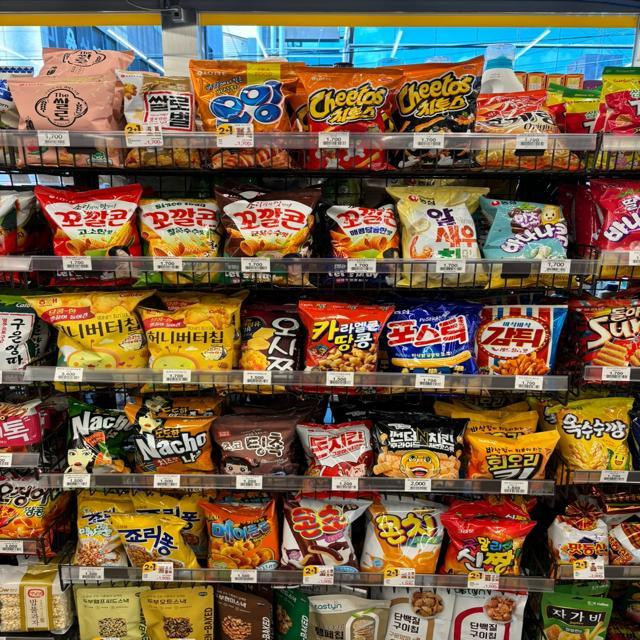product: (193, 61, 299, 162), (397, 57, 486, 167), (221, 190, 317, 289), (302, 69, 399, 164), (34, 187, 137, 276), (390, 189, 484, 284), (31, 295, 146, 370), (487, 197, 569, 283), (558, 392, 632, 485), (119, 70, 194, 161), (305, 303, 391, 377), (144, 200, 220, 282), (327, 197, 400, 282), (145, 307, 232, 377), (367, 500, 444, 577), (377, 416, 462, 483), (284, 497, 362, 566), (114, 513, 188, 582), (207, 501, 278, 572), (138, 413, 214, 478), (452, 515, 528, 580), (391, 309, 470, 371), (69, 403, 132, 474), (212, 422, 295, 475), (238, 313, 299, 379), (306, 423, 372, 479)
